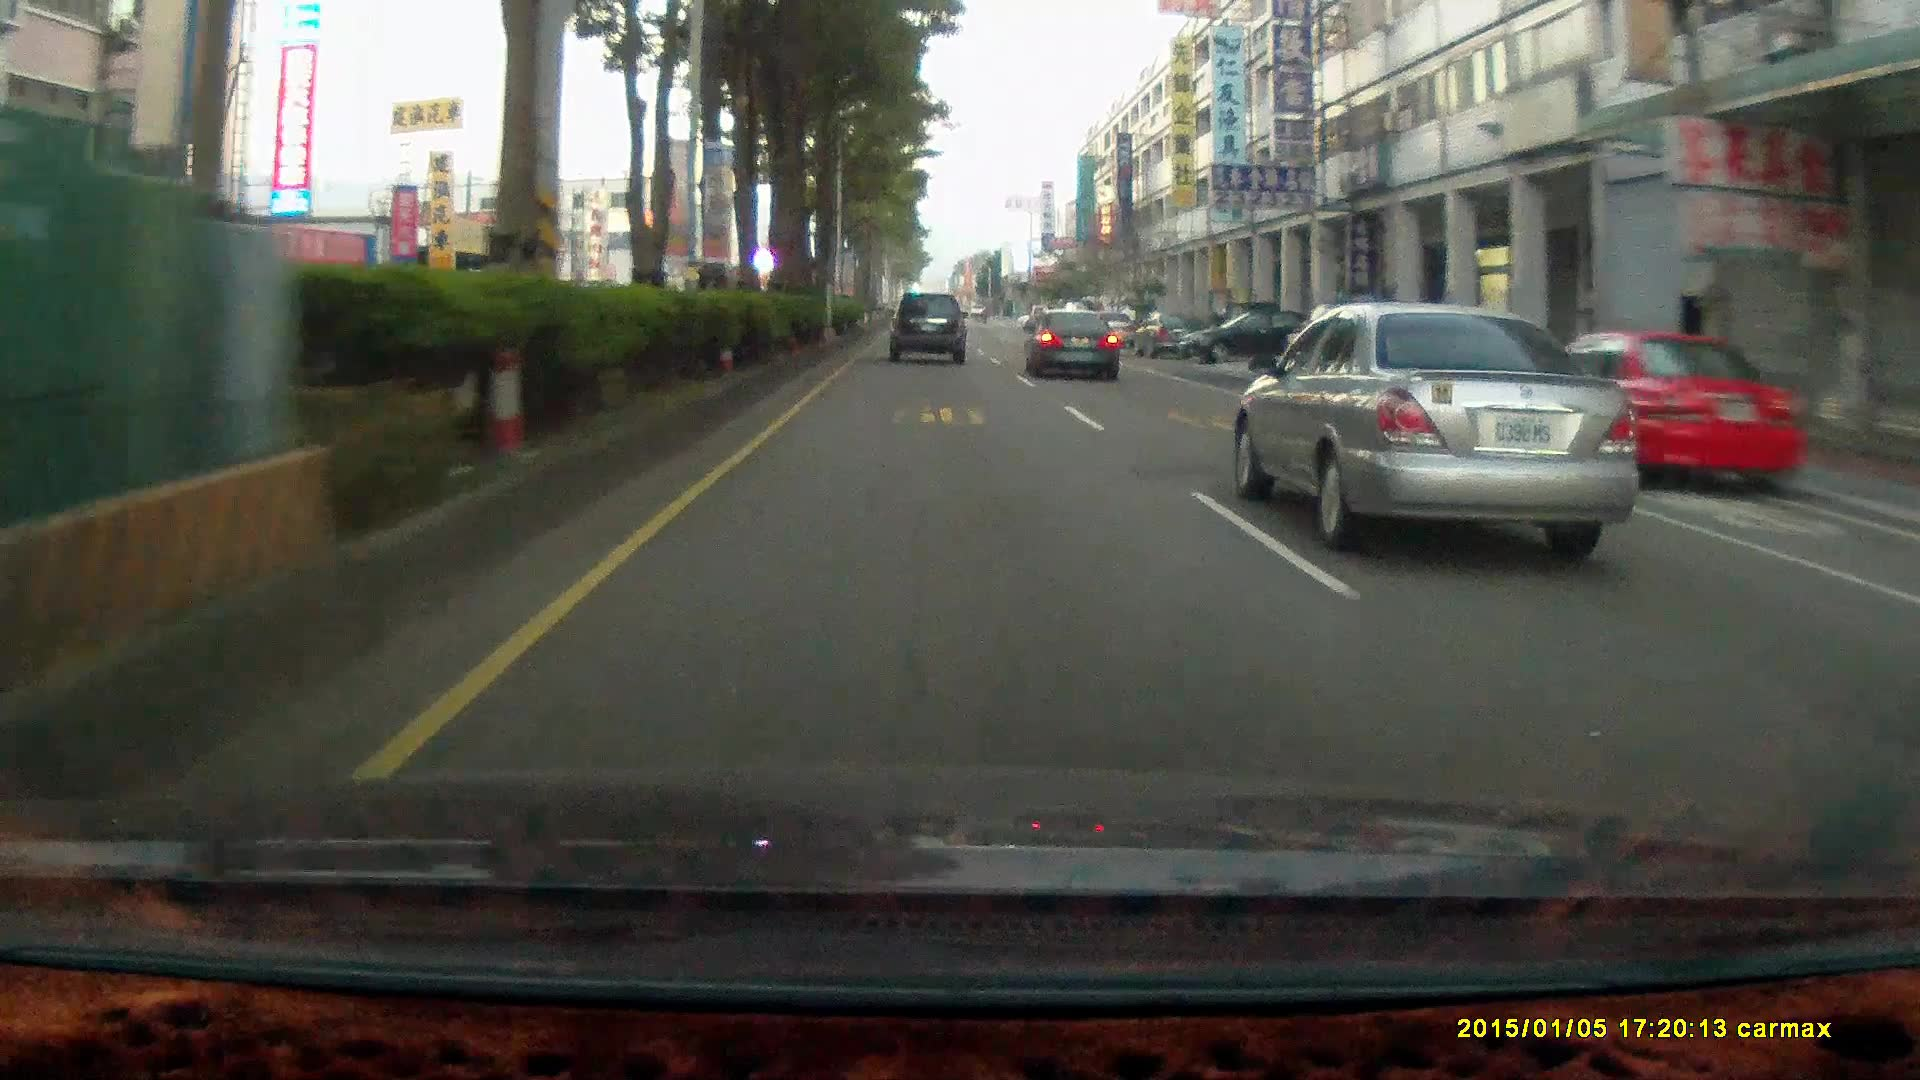vehicle: (1226, 286, 1662, 543), (1510, 327, 1811, 492), (1540, 320, 1820, 496), (1176, 305, 1327, 363), (1022, 307, 1122, 382), (1023, 306, 1120, 381), (887, 289, 971, 367), (886, 289, 969, 360), (1130, 307, 1203, 357)
